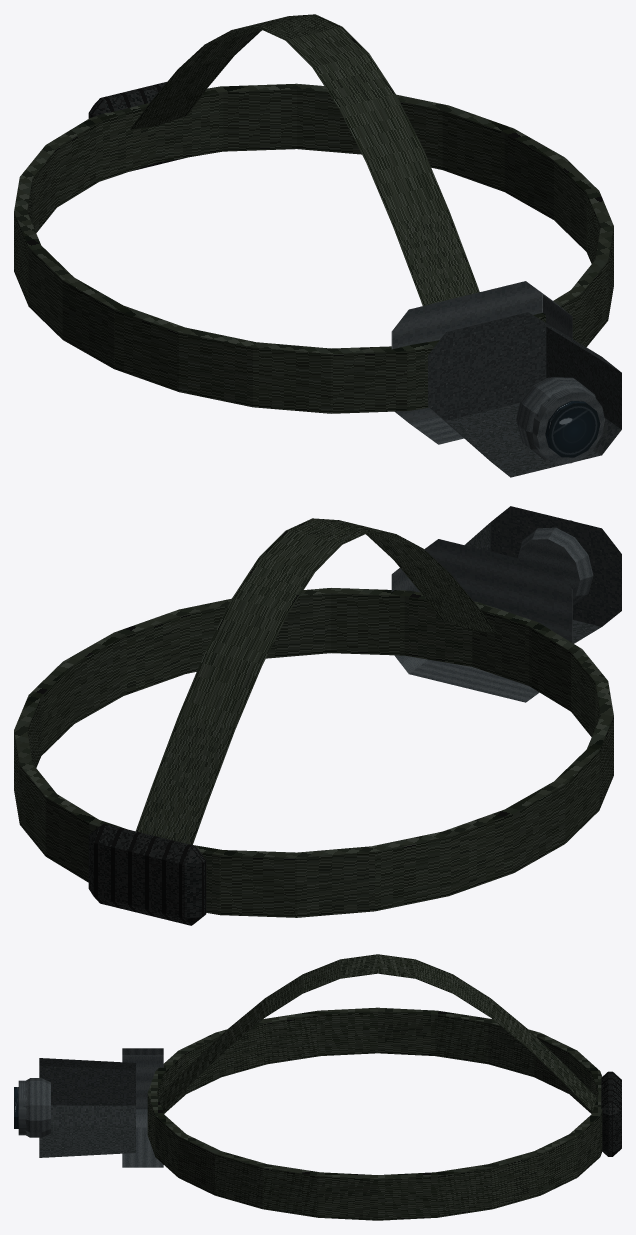
File: blender_head_gear_2.glb
3 renders of one model, top to bottom at view 1: azimuth 30°, elevation 25°; view 2: azimuth 150°, elevation 25°; view 3: azimuth 270°, elevation 25°, orthographic. The views are drawn at different scales.
Parts seen in each view (by area): view 1: blender_head_gear_2; view 2: blender_head_gear_2; view 3: blender_head_gear_2.
Boxes of the visible parts, bbox=[...] form: blender_head_gear_2: bbox=[14, 14, 621, 477]; blender_head_gear_2: bbox=[14, 506, 621, 925]; blender_head_gear_2: bbox=[14, 954, 621, 1220].
Bounding box in the file's own units: 0.176 × 0.088 × 0.264.
5 materials, 5 textured.
